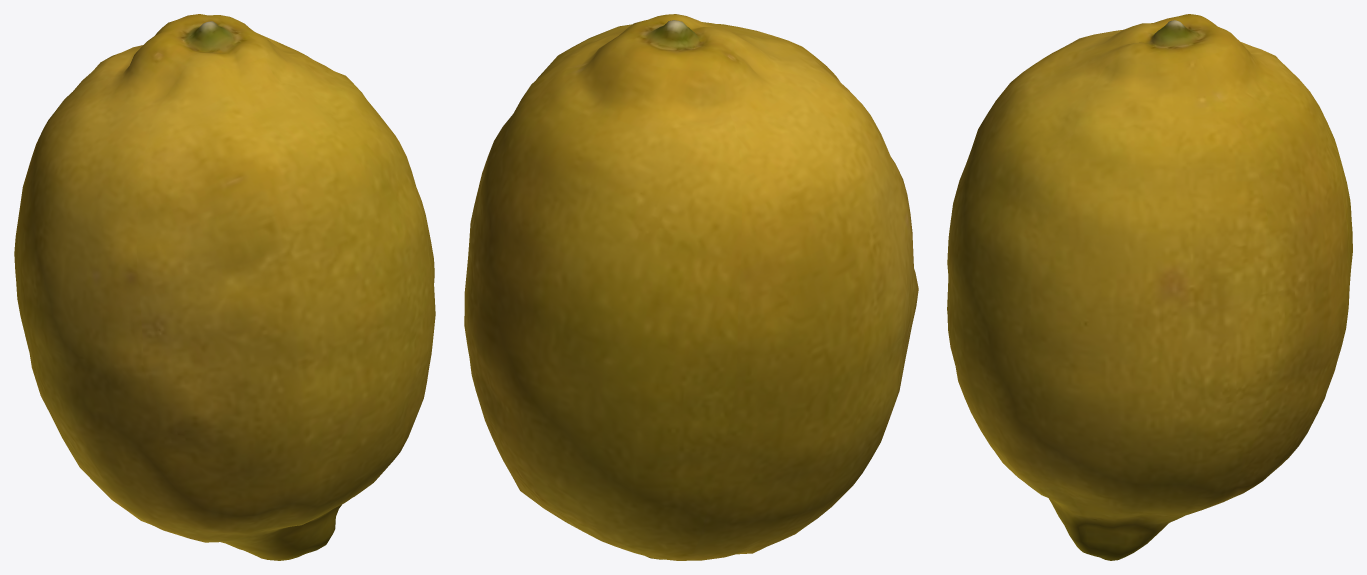
Rendered from lemon.glb.
The picture shows the model from 3 angles, left to right: view 1: azimuth 30°, elevation 25°; view 2: azimuth 150°, elevation 25°; view 3: azimuth 270°, elevation 25°; orthographic projection. The views are drawn at different scales.
Parts seen in each view (by area): view 1: lemon; view 2: lemon; view 3: lemon.
Part boxes in pixels (x1,y1,x2,y2): lemon: (14,14,435,560); lemon: (464,14,918,560); lemon: (947,14,1352,560).
Bounding box in the file's own units: 0.0687 × 0.0954 × 0.0683.
1 material, 1 textured.
